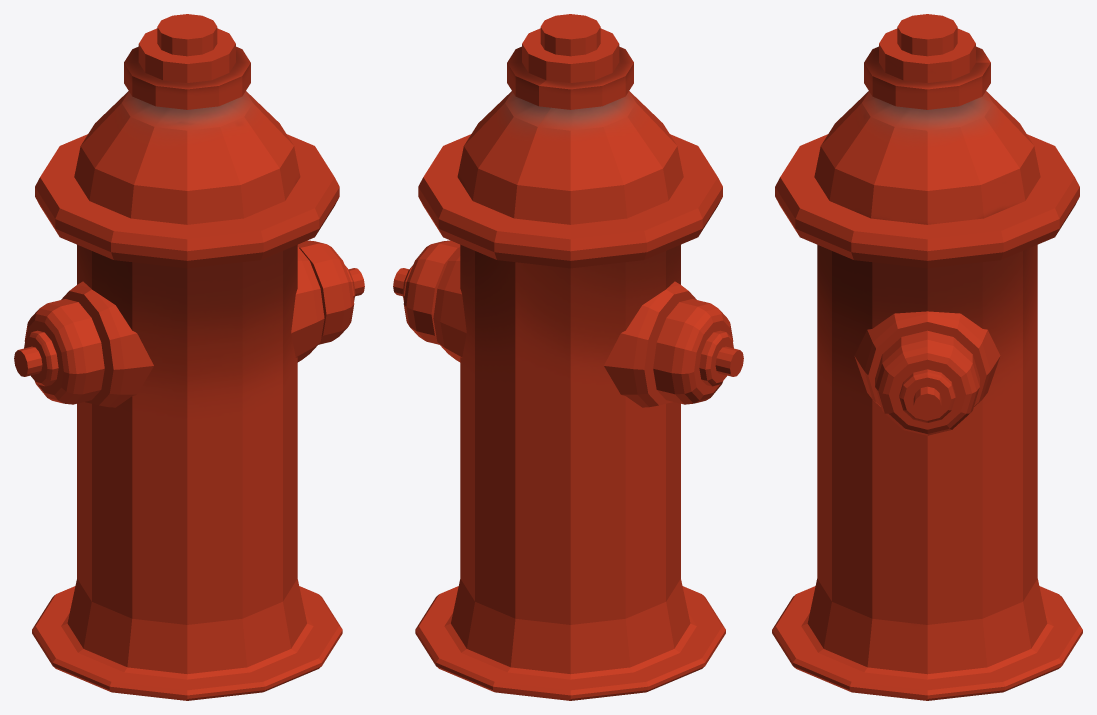
The model's file is Hidrante.fbx.
The picture shows the model from 3 angles, left to right: view 1: azimuth 30°, elevation 25°; view 2: azimuth 150°, elevation 25°; view 3: azimuth 270°, elevation 25°; orthographic projection.
Visible parts, largest first — view 1: Hydrant; view 2: Hydrant; view 3: Hydrant.
Boxes of the visible parts, <box> form: Hydrant: <box>14,14,364,700</box>; Hydrant: <box>393,14,743,700</box>; Hydrant: <box>772,14,1082,700</box>.
Size of the model in its own units: 128 by 221 by 102.
